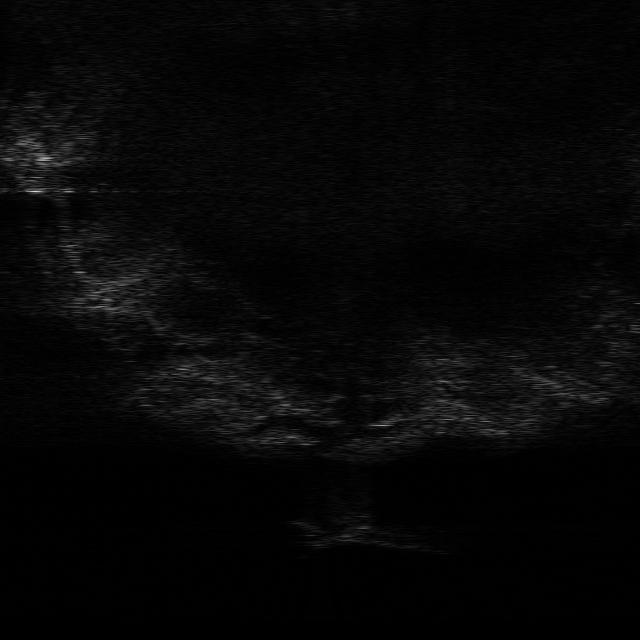plane: (292, 515, 420, 550)
